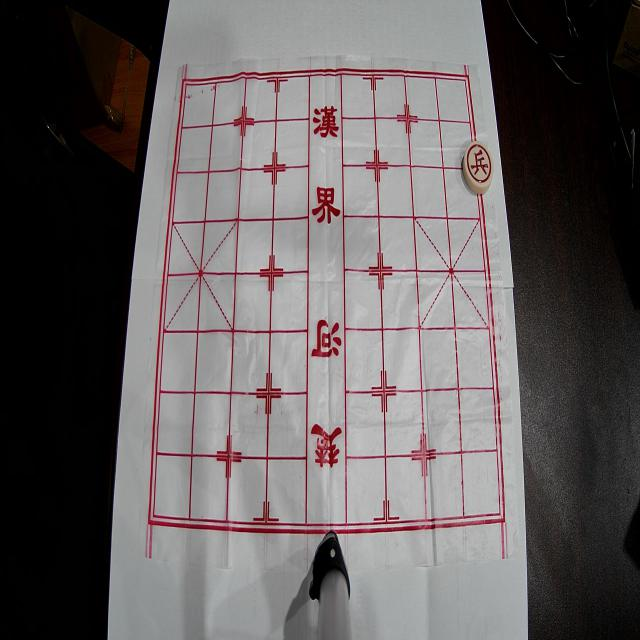red-soldier: (462, 142, 493, 194)
